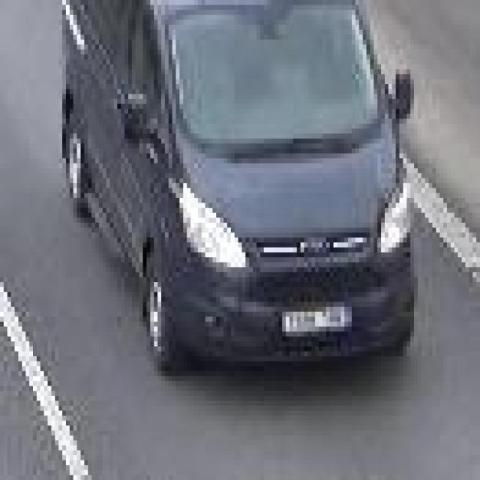van: (66, 0, 418, 376)
